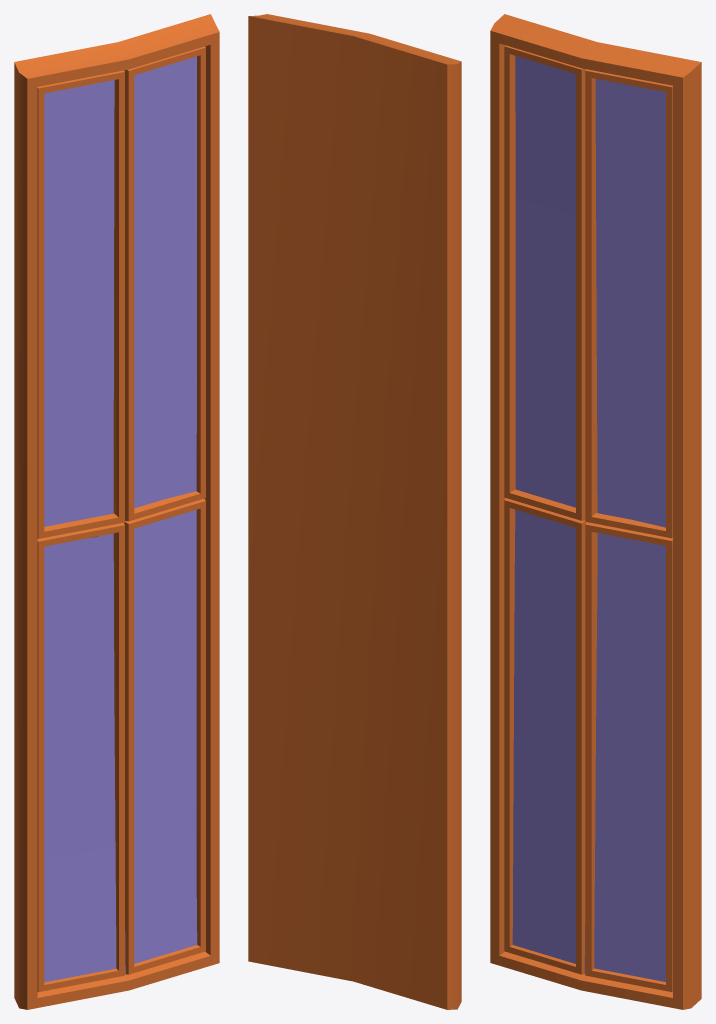
File: SP_House08_Window03.fbx
The picture shows the model from 3 angles, left to right: view 1: azimuth 30°, elevation 25°; view 2: azimuth 150°, elevation 25°; view 3: azimuth 330°, elevation 25°; orthographic projection.
Parts seen in each view (by area): view 1: SP_House08_Window03; view 2: SP_House08_Window03; view 3: SP_House08_Window03.
Boxes of the visible parts, x1,y1,x2,y2 form: SP_House08_Window03: [14, 14, 219, 1009]; SP_House08_Window03: [248, 14, 461, 1009]; SP_House08_Window03: [490, 14, 701, 1009].
Size of the model in its own units: 0.7135 by 3.22 by 0.1187.
